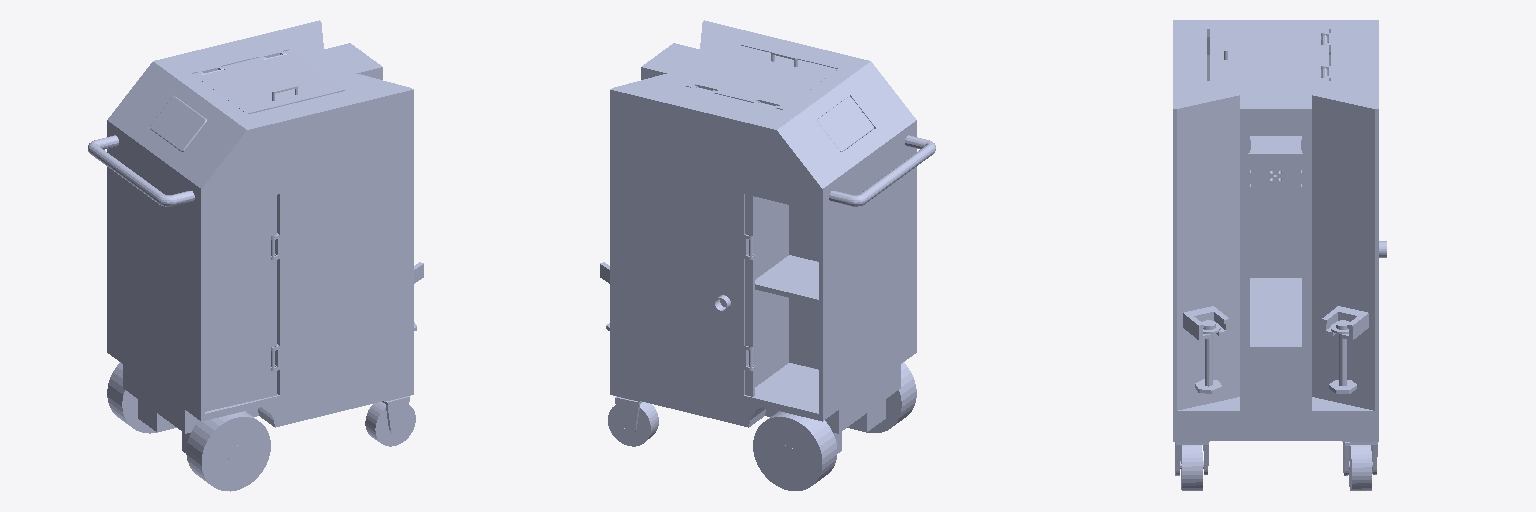
--- Render facts (derived) ---
Views: 3 orthographic renders of the robot side by side, from view 1: azimuth 30°, elevation 25°; view 2: azimuth 150°, elevation 25°; view 3: azimuth 270°, elevation 25°.
Robot: hivebot_trolley — 22 links, 21 joints (9 continuous, 1 prismatic, 11 fixed); root link base_link; default pose: every joint at zero.
Links seen in each view (by area): view 1: surrounding-frame, door-2, compartment-2, compartment-1, base_link, cover-door, back_wheel_2, tablet, handle, back_wheel_1, front_wheel_1, guiding_frame-2 (+2 smaller); view 2: surrounding-frame, compartment-1, compartment-2, base_link, cover-door, back_wheel_1, tablet, door-1, handle, back_wheel_2, guiding_frame-2, front_wheel_2 (+2 smaller); view 3: surrounding-frame, guiding_frame-2, base_link, cover-door, tools, mount-box, compartment-2, compartment-1, front_wheel_2, front_wheel_1.
Boxes of the visible links, x1,y1,x2,y2 form: surrounding-frame: (107,20,413,397); door-2: (205,195,276,411); compartment-2: (154,179,282,417); compartment-1: (107,148,153,382); base_link: (107,349,413,433); cover-door: (193,50,344,113); back_wheel_2: (186,411,270,491); tablet: (150,96,206,151); handle: (88,135,194,206); back_wheel_1: (107,362,156,433); front_wheel_1: (365,402,415,446); guiding_frame-2: (318,43,382,79); surrounding-frame: (610,20,916,397); compartment-1: (741,179,869,417); compartment-2: (870,148,916,382); base_link: (610,349,916,433); cover-door: (685,45,837,109); back_wheel_1: (753,411,837,490); tablet: (817,97,873,151); door-1: (720,194,754,396); handle: (829,135,935,206); back_wheel_2: (867,362,916,432); guiding_frame-2: (641,43,705,79); front_wheel_2: (608,402,658,446); surrounding-frame: (1173,20,1386,410); guiding_frame-2: (1240,92,1311,410); base_link: (1173,397,1378,440); cover-door: (1210,29,1328,80); tools: (1183,306,1368,393); mount-box: (1248,136,1302,197); compartment-2: (1207,78,1275,277); compartment-1: (1276,198,1301,277); front_wheel_2: (1343,445,1372,490); front_wheel_1: (1180,445,1203,490).
Bounding box of the posed robot: 0.8134 × 0.52 × 1.07 m (x, y, z).
22 mesh visuals loaded from 22 distinct referenced files (22 binary STL).

URDF robot description (hivebot_trolley):
<?xml version="1.0" encoding="utf-8"?>
<!-- This URDF was automatically created by SolidWorks to URDF Exporter! Originally created by Stephen Brawner ([email redacted]) 
     Commit Version: 1.6.0-1-g15f4949  Build Version: 1.6.7594.29634
     For more information, please see http://wiki.ros.org/sw_urdf_exporter -->
<robot
  name="hivebot_trolley">
  <link
    name="base_link">
    <inertial>
      <origin
        xyz="0.0235732763735559 -1.16301105845676E-16 -0.0393476182287232"
        rpy="0 0 0" />
      <mass
        value="23.4644604067189" />
      <inertia
        ixx="0.443716606385079"
        ixy="1.51028178972321E-16"
        ixz="0.00342987078268199"
        iyy="0.784701467555992"
        iyz="9.75264500412178E-19"
        izz="1.20292332901758" />
    </inertial>
    <visual>
      <origin
        xyz="0 0 0"
        rpy="0 0 0" />
      <geometry>
        <mesh
          filename="package://hivebot_trolley/meshes/base_link.STL" />
      </geometry>
      <material
        name="">
        <color
          rgba="0.792156862745098 0.819607843137255 0.933333333333333 1" />
      </material>
    </visual>
    <collision>
      <origin
        xyz="0 0 0"
        rpy="0 0 0" />
      <geometry>
        <mesh
          filename="package://hivebot_trolley/meshes/base_link.STL" />
      </geometry>
    </collision>
  </link>
  <link
    name="front_wheel_mount_plate_1">
    <inertial>
      <origin
        xyz="0 0 0.00372376098180308"
        rpy="0 0 0" />
      <mass
        value="0.0327823001646924" />
      <inertia
        ixx="1.83921920866059E-05"
        ixy="3.24615009351937E-21"
        ixz="-1.54550847789467E-22"
        iyy="1.83921920866059E-05"
        iyz="1.24661932029889E-23"
        izz="3.66220350741116E-05" />
    </inertial>
    <visual>
      <origin
        xyz="0 0 0"
        rpy="0 0 0" />
      <geometry>
        <mesh
          filename="package://hivebot_trolley/meshes/front_wheel_mount_plate_1.STL" />
      </geometry>
      <material
        name="">
        <color
          rgba="0.792156862745098 0.819607843137255 0.933333333333333 1" />
      </material>
    </visual>
    <collision>
      <origin
        xyz="0 0 0"
        rpy="0 0 0" />
      <geometry>
        <mesh
          filename="package://hivebot_trolley/meshes/front_wheel_mount_plate_1.STL" />
      </geometry>
    </collision>
  </link>
  <joint
    name="front_wheel_mount_plate_1_tobase"
    type="fixed">
    <origin
      xyz="0.28 -0.205 -0.086"
      rpy="0 0 3.1416" />
    <parent
      link="base_link" />
    <child
      link="front_wheel_mount_plate_1" />
    <axis
      xyz="0 0 0" />
  </joint>
  <link
    name="front_wheel_holder_1">
    <inertial>
      <origin
        xyz="0 0.0353498305391302 5.55111512312578E-17"
        rpy="0 0 0" />
      <mass
        value="0.150983674432007" />
      <inertia
        ixx="0.00028266058025081"
        ixy="-3.21116342948743E-20"
        ixz="2.79944389067546E-19"
        iyy="0.000195595027956607"
        iyz="9.17390835065707E-20"
        izz="0.000185655183273928" />
    </inertial>
    <visual>
      <origin
        xyz="0 0 0"
        rpy="0 0 0" />
      <geometry>
        <mesh
          filename="package://hivebot_trolley/meshes/front_wheel_holder_1.STL" />
      </geometry>
      <material
        name="">
        <color
          rgba="0.792156862745098 0.819607843137255 0.933333333333333 1" />
      </material>
    </visual>
    <collision>
      <origin
        xyz="0 0 0"
        rpy="0 0 0" />
      <geometry>
        <mesh
          filename="package://hivebot_trolley/meshes/front_wheel_holder_1.STL" />
      </geometry>
    </collision>
  </link>
  <joint
    name="front_wheel_holder_1_toplate"
    type="continuous">
    <origin
      xyz="0 0 0"
      rpy="-1.5708 0 -3.1022" />
    <parent
      link="front_wheel_mount_plate_1" />
    <child
      link="front_wheel_holder_1" />
    <axis
      xyz="0 1 0" />
  </joint>
  <link
    name="front_wheel_1">
    <inertial>
      <origin
        xyz="0 0 5.55111512312578E-17"
        rpy="0 0 0" />
      <mass
        value="0.642809126832642" />
      <inertia
        ixx="0.000780813338623139"
        ixy="5.42101086242752E-20"
        ixz="-6.55230197504303E-20"
        iyy="0.00078081333862314"
        iyz="-1.84261108894285E-19"
        izz="0.00127745325926734" />
    </inertial>
    <visual>
      <origin
        xyz="0 0 0"
        rpy="0 0 0" />
      <geometry>
        <mesh
          filename="package://hivebot_trolley/meshes/front_wheel_1.STL" />
      </geometry>
      <material
        name="">
        <color
          rgba="0.792156862745098 0.819607843137255 0.933333333333333 1" />
      </material>
    </visual>
    <collision>
      <origin
        xyz="0 0 0"
        rpy="0 0 0" />
      <geometry>
        <mesh
          filename="package://hivebot_trolley/meshes/front_wheel_1.STL" />
      </geometry>
    </collision>
  </link>
  <joint
    name="front_wheel_1_toholder"
    type="continuous">
    <origin
      xyz="0 0.081 0"
      rpy="0 0 1.9085" />
    <parent
      link="front_wheel_holder_1" />
    <child
      link="front_wheel_1" />
    <axis
      xyz="0 0 1" />
  </joint>
  <link
    name="front_wheel_mount_plate_2">
    <inertial>
      <origin
        xyz="0 -2.77555756156289E-17 0.00372376098180308"
        rpy="0 0 0" />
      <mass
        value="0.0327823001646925" />
      <inertia
        ixx="1.83921920866059E-05"
        ixy="4.93527744713229E-21"
        ixz="-5.06886009705894E-23"
        iyy="1.83921920866059E-05"
        iyz="-2.42774695441036E-22"
        izz="3.66220350741116E-05" />
    </inertial>
    <visual>
      <origin
        xyz="0 0 0"
        rpy="0 0 0" />
      <geometry>
        <mesh
          filename="package://hivebot_trolley/meshes/front_wheel_mount_plate_2.STL" />
      </geometry>
      <material
        name="">
        <color
          rgba="0.792156862745098 0.819607843137255 0.933333333333333 1" />
      </material>
    </visual>
    <collision>
      <origin
        xyz="0 0 0"
        rpy="0 0 0" />
      <geometry>
        <mesh
          filename="package://hivebot_trolley/meshes/front_wheel_mount_plate_2.STL" />
      </geometry>
    </collision>
  </link>
  <joint
    name="front_wheel_mount_plate_2_tobase"
    type="fixed">
    <origin
      xyz="0.28 0.205 -0.086"
      rpy="0 0 3.1416" />
    <parent
      link="base_link" />
    <child
      link="front_wheel_mount_plate_2" />
    <axis
      xyz="0 0 0" />
  </joint>
  <link
    name="front_wheel_holder_2">
    <inertial>
      <origin
        xyz="0 0.0353498305391302 -1.38777878078145E-16"
        rpy="0 0 0" />
      <mass
        value="0.150983674432007" />
      <inertia
        ixx="0.00028266058025081"
        ixy="2.48099744005913E-20"
        ixz="-5.8699383244723E-19"
        iyy="0.000195595027956607"
        iyz="8.44021330596004E-20"
        izz="0.000185655183273928" />
    </inertial>
    <visual>
      <origin
        xyz="0 0 0"
        rpy="0 0 0" />
      <geometry>
        <mesh
          filename="package://hivebot_trolley/meshes/front_wheel_holder_2.STL" />
      </geometry>
      <material
        name="">
        <color
          rgba="0.792156862745098 0.819607843137255 0.933333333333333 1" />
      </material>
    </visual>
    <collision>
      <origin
        xyz="0 0 0"
        rpy="0 0 0" />
      <geometry>
        <mesh
          filename="package://hivebot_trolley/meshes/front_wheel_holder_2.STL" />
      </geometry>
    </collision>
  </link>
  <joint
    name="front_wheel_holder_2_toplate"
    type="continuous">
    <origin
      xyz="0 0 0"
      rpy="-1.5708 0 0.07963" />
    <parent
      link="front_wheel_mount_plate_2" />
    <child
      link="front_wheel_holder_2" />
    <axis
      xyz="0 1 0" />
  </joint>
  <link
    name="front_wheel_2">
    <inertial>
      <origin
        xyz="0 0 2.77555756156289E-17"
        rpy="0 0 0" />
      <mass
        value="0.642809126832642" />
      <inertia
        ixx="0.000780813338623139"
        ixy="-5.42101086242752E-20"
        ixz="4.90097043911794E-19"
        iyy="0.000780813338623139"
        iyz="-4.72387687152462E-19"
        izz="0.00127745325926734" />
    </inertial>
    <visual>
      <origin
        xyz="0 0 0"
        rpy="0 0 0" />
      <geometry>
        <mesh
          filename="package://hivebot_trolley/meshes/front_wheel_2.STL" />
      </geometry>
      <material
        name="">
        <color
          rgba="0.792156862745098 0.819607843137255 0.933333333333333 1" />
      </material>
    </visual>
    <collision>
      <origin
        xyz="0 0 0"
        rpy="0 0 0" />
      <geometry>
        <mesh
          filename="package://hivebot_trolley/meshes/front_wheel_2.STL" />
      </geometry>
    </collision>
  </link>
  <joint
    name="front_wheel_2_toholder"
    type="continuous">
    <origin
      xyz="0 0.081 0"
      rpy="0 0 2.2113" />
    <parent
      link="front_wheel_holder_2" />
    <child
      link="front_wheel_2" />
    <axis
      xyz="0 0 1" />
  </joint>
  <link
    name="back_wheel_holder_2">
    <inertial>
      <origin
        xyz="2.77555756156289E-17 2.77555756156289E-17 0.12370581952403"
        rpy="0 0 0" />
      <mass
        value="1.36689710972196" />
      <inertia
        ixx="0.00338021767437179"
        ixy="2.06305140072641E-19"
        ixz="-2.77319256608588E-19"
        iyy="0.00382021767437179"
        iyz="-1.2413112864934E-19"
        izz="0.00249215534678811" />
    </inertial>
    <visual>
      <origin
        xyz="0 0 0"
        rpy="0 0 0" />
      <geometry>
        <mesh
          filename="package://hivebot_trolley/meshes/back_wheel_holder_2.STL" />
      </geometry>
      <material
        name="">
        <color
          rgba="0.792156862745098 0.819607843137255 0.933333333333333 1" />
      </material>
    </visual>
    <collision>
      <origin
        xyz="0 0 0"
        rpy="0 0 0" />
      <geometry>
        <mesh
          filename="package://hivebot_trolley/meshes/back_wheel_holder_2.STL" />
      </geometry>
    </collision>
  </link>
  <joint
    name="back_wheel_holder_2_tobase"
    type="fixed">
    <origin
      xyz="-0.2185 -0.25 -0.13"
      rpy="1.5708 0 3.1416" />
    <parent
      link="base_link" />
    <child
      link="back_wheel_holder_2" />
    <axis
      xyz="0 0 0" />
  </joint>
  <link
    name="back_wheel_2">
    <inertial>
      <origin
        xyz="4.16333634234434E-16 -5.55111512312578E-17 0.0399999999999996"
        rpy="0 0 0" />
      <mass
        value="2.69353870933482" />
      <inertia
        ixx="0.00949511675813368"
        ixy="5.29395592033938E-23"
        ixz="9.95024472665243E-19"
        iyy="0.00949511675813367"
        iyz="-1.1541177720628E-18"
        izz="0.0161171255596435" />
    </inertial>
    <visual>
      <origin
        xyz="0 0 0"
        rpy="0 0 0" />
      <geometry>
        <mesh
          filename="package://hivebot_trolley/meshes/back_wheel_2.STL" />
      </geometry>
      <material
        name="">
        <color
          rgba="0.792156862745098 0.819607843137255 0.933333333333333 1" />
      </material>
    </visual>
    <collision>
      <origin
        xyz="0 0 0"
        rpy="0 0 0" />
      <geometry>
        <mesh
          filename="package://hivebot_trolley/meshes/back_wheel_2.STL" />
      </geometry>
    </collision>
  </link>
  <joint
    name="back_wheel_2_toholder"
    type="continuous">
    <origin
      xyz="0 0 0"
      rpy="0 0 1.5708" />
    <parent
      link="back_wheel_holder_2" />
    <child
      link="back_wheel_2" />
    <axis
      xyz="0 0 1" />
  </joint>
  <link
    name="back_wheel_holder_1">
    <inertial>
      <origin
        xyz="0 0 0.12370581952403"
        rpy="0 0 0" />
      <mass
        value="1.36689710972196" />
      <inertia
        ixx="0.00338021767437178"
        ixy="3.21237840152391E-19"
        ixz="-1.88824243478581E-19"
        iyy="0.00382021767437178"
        iyz="-1.63935584020256E-21"
        izz="0.00249215534678811" />
    </inertial>
    <visual>
      <origin
        xyz="0 0 0"
        rpy="0 0 0" />
      <geometry>
        <mesh
          filename="package://hivebot_trolley/meshes/back_wheel_holder_1.STL" />
      </geometry>
      <material
        name="">
        <color
          rgba="0.792156862745098 0.819607843137255 0.933333333333333 1" />
      </material>
    </visual>
    <collision>
      <origin
        xyz="0 0 0"
        rpy="0 0 0" />
      <geometry>
        <mesh
          filename="package://hivebot_trolley/meshes/back_wheel_holder_1.STL" />
      </geometry>
    </collision>
  </link>
  <joint
    name="back_wheel_holder_1_tobase"
    type="fixed">
    <origin
      xyz="-0.2185 0.25 -0.13"
      rpy="-1.5708 0 3.1416" />
    <parent
      link="base_link" />
    <child
      link="back_wheel_holder_1" />
    <axis
      xyz="0 0 0" />
  </joint>
  <link
    name="back_wheel_1">
    <inertial>
      <origin
        xyz="-5.55111512312578E-17 0 0.04"
        rpy="0 0 0" />
      <mass
        value="2.69353870933482" />
      <inertia
        ixx="0.00949511675813368"
        ixy="0"
        ixz="1.26731753157619E-18"
        iyy="0.00949511675813368"
        iyz="-1.52133972476596E-18"
        izz="0.0161171255596436" />
    </inertial>
    <visual>
      <origin
        xyz="0 0 0"
        rpy="0 0 0" />
      <geometry>
        <mesh
          filename="package://hivebot_trolley/meshes/back_wheel_1.STL" />
      </geometry>
      <material
        name="">
        <color
          rgba="0.792156862745098 0.819607843137255 0.933333333333333 1" />
      </material>
    </visual>
    <collision>
      <origin
        xyz="0 0 0"
        rpy="0 0 0" />
      <geometry>
        <mesh
          filename="package://hivebot_trolley/meshes/back_wheel_1.STL" />
      </geometry>
    </collision>
  </link>
  <joint
    name="back_wheel_1_toholder"
    type="continuous">
    <origin
      xyz="0 0 0"
      rpy="0 0 2.8824" />
    <parent
      link="back_wheel_holder_1" />
    <child
      link="back_wheel_1" />
    <axis
      xyz="0 0 1" />
  </joint>
  <link
    name="guiding_frame-2">
    <inertial>
      <origin
        xyz="1.40422097108178E-16 -5.55111512312578E-17 0.52082343378767"
        rpy="0 0 0" />
      <mass
        value="5.75784" />
      <inertia
        ixx="0.369158792655726"
        ixy="2.49402192883461E-18"
        ixz="5.73478237026073E-17"
        iyy="0.387658995375726"
        iyz="3.63659399409593E-17"
        izz="0.02826234816" />
    </inertial>
    <visual>
      <origin
        xyz="0 0 0"
        rpy="0 0 0" />
      <geometry>
        <mesh
          filename="package://hivebot_trolley/meshes/guiding_frame-2.STL" />
      </geometry>
      <material
        name="">
        <color
          rgba="0.792156862745098 0.819607843137255 0.933333333333333 1" />
      </material>
    </visual>
    <collision>
      <origin
        xyz="0 0 0"
        rpy="0 0 0" />
      <geometry>
        <mesh
          filename="package://hivebot_trolley/meshes/guiding_frame-2.STL" />
      </geometry>
    </collision>
  </link>
  <joint
    name="guiding-frame-2-tobase"
    type="fixed">
    <origin
      xyz="0.275 0 0.81"
      rpy="3.1416 0 -1.5708" />
    <parent
      link="base_link" />
    <child
      link="guiding_frame-2" />
    <axis
      xyz="0 0 0" />
  </joint>
  <link
    name="mount-box">
    <inertial>
      <origin
        xyz="-0.0400000000000001 -0.0599999999999999 -0.06"
        rpy="0 0 0" />
      <mass
        value="1.43838725877128" />
      <inertia
        ixx="0.00345361373947357"
        ixy="1.45609786108984E-19"
        ixz="-1.2659665150112E-19"
        iyy="0.00290597229871286"
        iyz="-6.51769155242515E-19"
        izz="0.00290766425871286" />
    </inertial>
    <visual>
      <origin
        xyz="0 0 0"
        rpy="0 0 0" />
      <geometry>
        <mesh
          filename="package://hivebot_trolley/meshes/mount-box.STL" />
      </geometry>
      <material
        name="">
        <color
          rgba="0.792156862745098 0.819607843137255 0.933333333333333 1" />
      </material>
    </visual>
    <collision>
      <origin
        xyz="0 0 0"
        rpy="0 0 0" />
      <geometry>
        <mesh
          filename="package://hivebot_trolley/meshes/mount-box.STL" />
      </geometry>
    </collision>
  </link>
  <joint
    name="mount-box-to-frame"
    type="prismatic">
    <origin
      xyz="0.06 -0.04 0.11989"
      rpy="-1.5708 0 -1.5708" />
    <parent
      link="guiding_frame-2" />
    <child
      link="mount-box" />
    <axis
      xyz="0 1 0" />
    <limit
      lower="-0.38"
      upper="0.1"
      effort="0"
      velocity="0" />
  </joint>
  <link
    name="surrounding-frame">
    <inertial>
      <origin
        xyz="0.25081880830438 -0.0984828202328318 0.385306866228244"
        rpy="0 0 0" />
      <mass
        value="39.1078118021391" />
      <inertia
        ixx="1.55288148334587"
        ixy="-0.00153801040030465"
        ixz="0.00220493109382033"
        iyy="1.67301946819098"
        iyz="0.0166316312278493"
        izz="1.1231420016058" />
    </inertial>
    <visual>
      <origin
        xyz="0 0 0"
        rpy="0 0 0" />
      <geometry>
        <mesh
          filename="package://hivebot_trolley/meshes/surrounding-frame.STL" />
      </geometry>
      <material
        name="">
        <color
          rgba="0.792156862745098 0.819607843137255 0.933333333333333 1" />
      </material>
    </visual>
    <collision>
      <origin
        xyz="0 0 0"
        rpy="0 0 0" />
      <geometry>
        <mesh
          filename="package://hivebot_trolley/meshes/surrounding-frame.STL" />
      </geometry>
    </collision>
  </link>
  <joint
    name="surrounding-frame-to-base"
    type="fixed">
    <origin
      xyz="0.225 -0.25 0.81"
      rpy="3.1416 0 1.5708" />
    <parent
      link="base_link" />
    <child
      link="surrounding-frame" />
    <axis
      xyz="0 0 0" />
  </joint>
  <link
    name="cover-door">
    <inertial>
      <origin
        xyz="0.137890062430959 0.150040997767576 -0.000110355172872834"
        rpy="0 0 0" />
      <mass
        value="1.71577433388231" />
      <inertia
        ixx="0.0128235955145912"
        ixy="-7.18271089932621E-06"
        ixz="1.93339625511969E-05"
        iyy="0.0117484833677518"
        iyz="1.88568302746812E-06"
        izz="0.0244481959322745" />
    </inertial>
    <visual>
      <origin
        xyz="0 0 0"
        rpy="0 0 0" />
      <geometry>
        <mesh
          filename="package://hivebot_trolley/meshes/cover-door.STL" />
      </geometry>
      <material
        name="">
        <color
          rgba="0.792156862745098 0.819607843137255 0.933333333333333 1" />
      </material>
    </visual>
    <collision>
      <origin
        xyz="0 0 0"
        rpy="0 0 0" />
      <geometry>
        <mesh
          filename="package://hivebot_trolley/meshes/cover-door.STL" />
      </geometry>
    </collision>
  </link>
  <joint
    name="cover-door-to-frame"
    type="continuous">
    <origin
      xyz="0.36855 -0.06 0.01"
      rpy="0 0.001715 3.1416" />
    <parent
      link="surrounding-frame" />
    <child
      link="cover-door" />
    <axis
      xyz="0 1 0" />
  </joint>
  <link
    name="tablet">
    <inertial>
      <origin
        xyz="1.36883635898117E-05 0.00296570177312283 4.00530110057362E-05"
        rpy="0 0 0" />
      <mass
        value="0.113687986940389" />
      <inertia
        ixx="0.000111445471191984"
        ixy="-6.15789915572864E-11"
        ixz="2.32192465433345E-08"
        iyy="0.000413028900787828"
        iyz="2.72645884829236E-08"
        izz="0.000302229544189519" />
    </inertial>
    <visual>
      <origin
        xyz="0 0 0"
        rpy="0 0 0" />
      <geometry>
        <mesh
          filename="package://hivebot_trolley/meshes/tablet.STL" />
      </geometry>
      <material
        name="">
        <color
          rgba="0.792156862745098 0.819607843137255 0.933333333333333 1" />
      </material>
    </visual>
    <collision>
      <origin
        xyz="0 0 0"
        rpy="0 0 0" />
      <geometry>
        <mesh
          filename="package://hivebot_trolley/meshes/tablet.STL" />
      </geometry>
    </collision>
  </link>
  <joint
    name="tablet-to-frame"
    type="fixed">
    <origin
      xyz="0.251 -0.47364 0.070711"
      rpy="-0.7854 0 -3.1416" />
    <parent
      link="surrounding-frame" />
    <child
      link="tablet" />
    <axis
      xyz="0 0 0" />
  </joint>
  <link
    name="handle">
    <inertial>
      <origin
        xyz="0.2 0 0.0683128872678796"
        rpy="0 0 0" />
      <mass
        value="0.383705226392601" />
      <inertia
        ixx="0.000225586911534695"
        ixy="2.06897283647009E-19"
        ixz="1.39338231937946E-18"
        iyy="0.00803378140369941"
        iyz="1.95575888623689E-20"
        izz="0.00785136133013388" />
    </inertial>
    <visual>
      <origin
        xyz="0 0 0"
        rpy="0 0 0" />
      <geometry>
        <mesh
          filename="package://hivebot_trolley/meshes/handle.STL" />
      </geometry>
      <material
        name="">
        <color
          rgba="0.792156862745098 0.819607843137255 0.933333333333333 1" />
      </material>
    </visual>
    <collision>
      <origin
        xyz="0 0 0"
        rpy="0 0 0" />
      <geometry>
        <mesh
          filename="package://hivebot_trolley/meshes/handle.STL" />
      </geometry>
    </collision>
  </link>
  <joint
    name="handle-to-frame"
    type="fixed">
    <origin
      xyz="0.05 -0.55 0.18"
      rpy="1.5708 0 0" />
    <parent
      link="surrounding-frame" />
    <child
      link="handle" />
    <axis
      xyz="0 0 0" />
  </joint>
  <link
    name="tools">
    <inertial>
      <origin
        xyz="0.192936151051069 0.120280603660325 -0.0161951081872489"
        rpy="0 0 0" />
      <mass
        value="0.532371246582646" />
      <inertia
        ixx="0.00119708517877981"
        ixy="-1.65474125270207E-05"
        ixz="-5.00577809600436E-06"
        iyy="0.00122007986339354"
        iyz="9.57355060860906E-06"
        izz="0.000526564685247578" />
    </inertial>
    <visual>
      <origin
        xyz="0 0 0"
        rpy="0 0 0" />
      <geometry>
        <mesh
          filename="package://hivebot_trolley/meshes/tools.STL" />
      </geometry>
      <material
        name="">
        <color
          rgba="0.792156862745098 0.819607843137255 0.933333333333333 1" />
      </material>
    </visual>
    <collision>
      <origin
        xyz="0 0 0"
        rpy="0 0 0" />
      <geometry>
        <mesh
          filename="package://hivebot_trolley/meshes/tools.STL" />
      </geometry>
    </collision>
  </link>
  <joint
    name="tools-to-frame"
    type="fixed">
    <origin
      xyz="0.47671 0.09305 0.59"
      rpy="3.1416 0 -2.6598" />
    <parent
      link="surrounding-frame" />
    <child
      link="tools" />
    <axis
      xyz="0 0 0" />
  </joint>
  <link
    name="compartment-1">
    <inertial>
      <origin
        xyz="-0.000407919789025102 0.0298582952007898 0.273367873191963"
        rpy="0 0 0" />
      <mass
        value="5.66237181704939" />
      <inertia
        ixx="0.211234924589257"
        ixy="6.76868449226748E-17"
        ixz="1.33025596361753E-18"
        iyy="0.230542686133498"
        iyz="-0.00553942271601607"
        izz="0.0904301793877136" />
    </inertial>
    <visual>
      <origin
        xyz="0 0 0"
        rpy="0 0 0" />
      <geometry>
        <mesh
          filename="package://hivebot_trolley/meshes/compartment-1.STL" />
      </geometry>
      <material
        name="">
        <color
          rgba="0.792156862745098 0.819607843137255 0.933333333333333 1" />
      </material>
    </visual>
    <collision>
      <origin
        xyz="0 0 0"
        rpy="0 0 0" />
      <geometry>
        <mesh
          filename="package://hivebot_trolley/meshes/compartment-1.STL" />
      </geometry>
    </collision>
  </link>
  <joint
    name="compartment-1-tobase"
    type="fixed">
    <origin
      xyz="-0.2 0.125 0"
      rpy="0 0 3.1416" />
    <parent
      link="base_link" />
    <child
      link="compartment-1" />
    <axis
      xyz="0 0 0" />
  </joint>
  <link
    name="door-1">
    <inertial>
      <origin
        xyz="0.295291950301883 0.10382999581969 1.11022302462516E-16"
        rpy="0 0 0" />
      <mass
        value="1.31049557428756" />
      <inertia
        ixx="0.00542945303432149"
        ixy="3.97253126393702E-05"
        ixz="8.26254170266968E-20"
        iyy="0.038054773608125"
        iyz="-3.99121924746226E-18"
        izz="0.0434624308644346" />
    </inertial>
    <visual>
      <origin
        xyz="0 0 0"
        rpy="0 0 0" />
      <geometry>
        <mesh
          filename="package://hivebot_trolley/meshes/door-1.STL" />
      </geometry>
      <material
        name="">
        <color
          rgba="0.792156862745098 0.819607843137255 0.933333333333333 1" />
      </material>
    </visual>
    <collision>
      <origin
        xyz="0 0 0"
        rpy="0 0 0" />
      <geometry>
        <mesh
          filename="package://hivebot_trolley/meshes/door-1.STL" />
      </geometry>
    </collision>
  </link>
  <joint
    name="door-1-to-compartment"
    type="continuous">
    <origin
      xyz="-0.1 -0.115 0.01"
      rpy="1.568 -1.5708 0" />
    <parent
      link="compartment-1" />
    <child
      link="door-1" />
    <axis
      xyz="1 0 0" />
  </joint>
  <link
    name="compartment-2">
    <inertial>
      <origin
        xyz="0.000407919789025379 0.0298582952007898 0.273367873191963"
        rpy="0 0 0" />
      <mass
        value="5.66237181704939" />
      <inertia
        ixx="0.211234924589257"
        ixy="7.54303366478574E-17"
        ixz="2.25062829490829E-17"
        iyy="0.230542686133498"
        iyz="-0.0055394227160161"
        izz="0.0904301793877136" />
    </inertial>
    <visual>
      <origin
        xyz="0 0 0"
        rpy="0 0 0" />
      <geometry>
        <mesh
          filename="package://hivebot_trolley/meshes/compartment-2.STL" />
      </geometry>
      <material
        name="">
        <color
          rgba="0.792156862745098 0.819607843137255 0.933333333333333 1" />
      </material>
    </visual>
    <collision>
      <origin
        xyz="0 0 0"
        rpy="0 0 0" />
      <geometry>
        <mesh
          filename="package://hivebot_trolley/meshes/compartment-2.STL" />
      </geometry>
    </collision>
  </link>
  <joint
    name="compartment-2-to-base"
    type="fixed">
    <origin
      xyz="-0.2 -0.125 0"
      rpy="0 0 0" />
    <parent
      link="base_link" />
    <child
      link="compartment-2" />
    <axis
      xyz="0 0 0" />
  </joint>
  <link
    name="door-2">
    <inertial>
      <origin
        xyz="0.295291950301883 0.103829995819691 1.38777878078145E-16"
        rpy="0 0 0" />
      <mass
        value="1.31049557428757" />
      <inertia
        ixx="0.0054294530343215"
        ixy="3.97253126393726E-05"
        ixz="-4.8450284582946E-19"
        iyy="0.0380547736081251"
        iyz="1.62630325872826E-18"
        izz="0.0434624308644347" />
    </inertial>
    <visual>
      <origin
        xyz="0 0 0"
        rpy="0 0 0" />
      <geometry>
        <mesh
          filename="package://hivebot_trolley/meshes/door-2.STL" />
      </geometry>
      <material
        name="">
        <color
          rgba="0.792156862745098 0.819607843137255 0.933333333333333 1" />
      </material>
    </visual>
    <collision>
      <origin
        xyz="0 0 0"
        rpy="0 0 0" />
      <geometry>
        <mesh
          filename="package://hivebot_trolley/meshes/door-2.STL" />
      </geometry>
    </collision>
  </link>
  <joint
    name="door-2-to-compartment"
    type="continuous">
    <origin
      xyz="0.1 -0.115 0.01"
      rpy="1.5394 -1.5708 0" />
    <parent
      link="compartment-2" />
    <child
      link="door-2" />
    <axis
      xyz="1 0 0" />
  </joint>
</robot>
